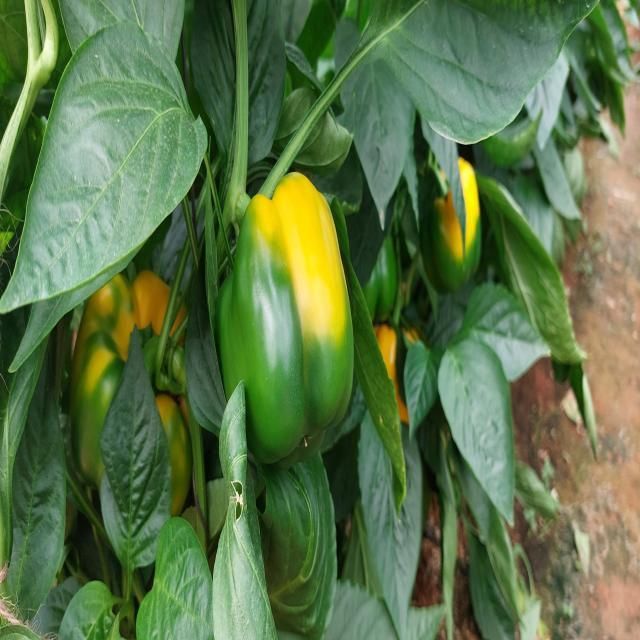GreenishYellow--Can-be-Harvested: (208, 188, 368, 466), (67, 267, 202, 522)
